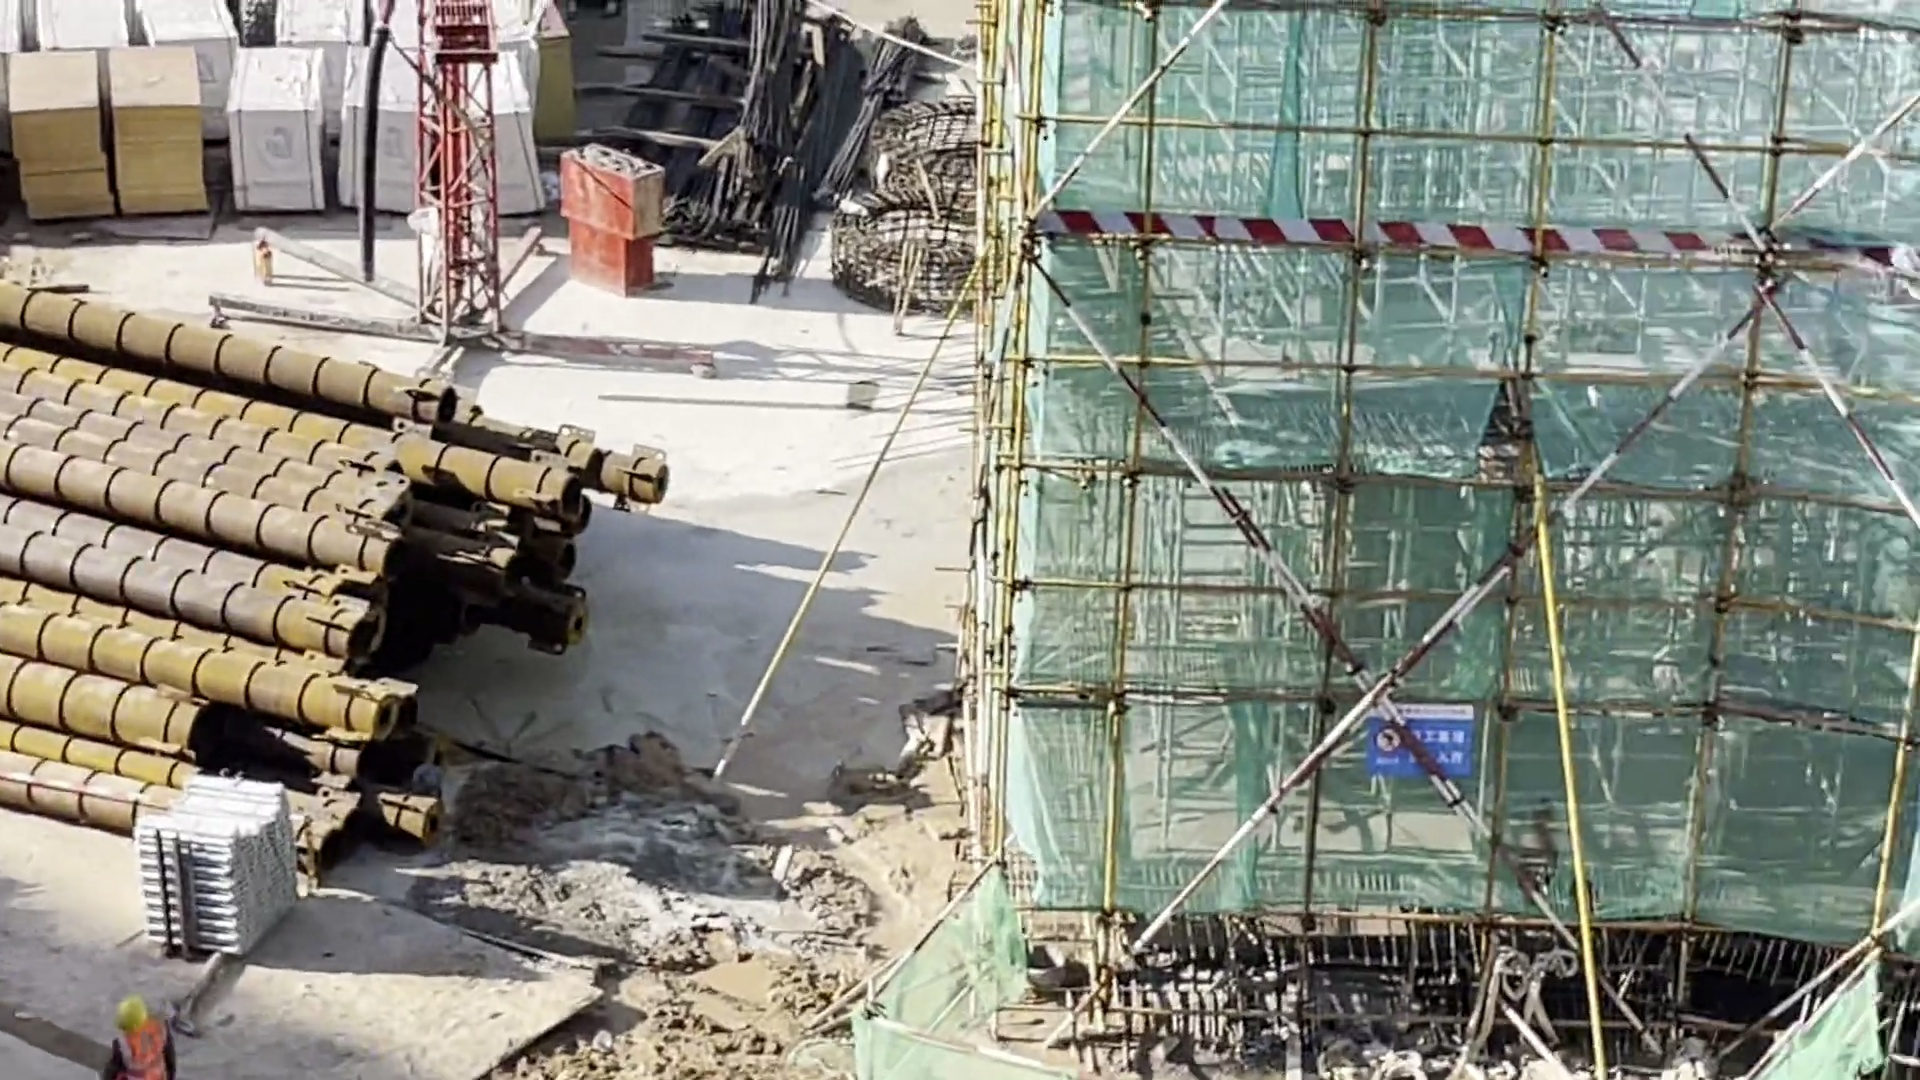board: (4, 41, 117, 230), (107, 46, 221, 224)
person: (80, 994, 208, 1080)
scaffold: (125, 750, 304, 968)
slogan: (1340, 683, 1507, 802)
vest: (106, 1017, 179, 1080)
